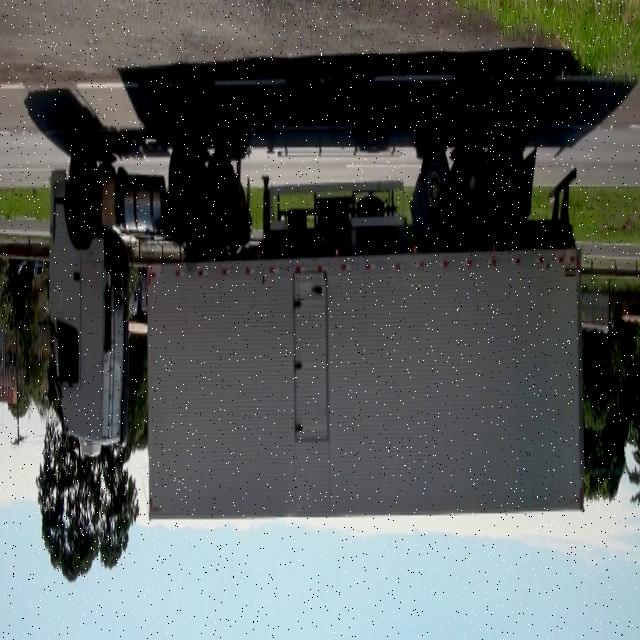-axle: (454, 134, 488, 233), (416, 143, 451, 234), (166, 137, 200, 226), (493, 138, 524, 228), (67, 141, 98, 229), (204, 152, 236, 236)
